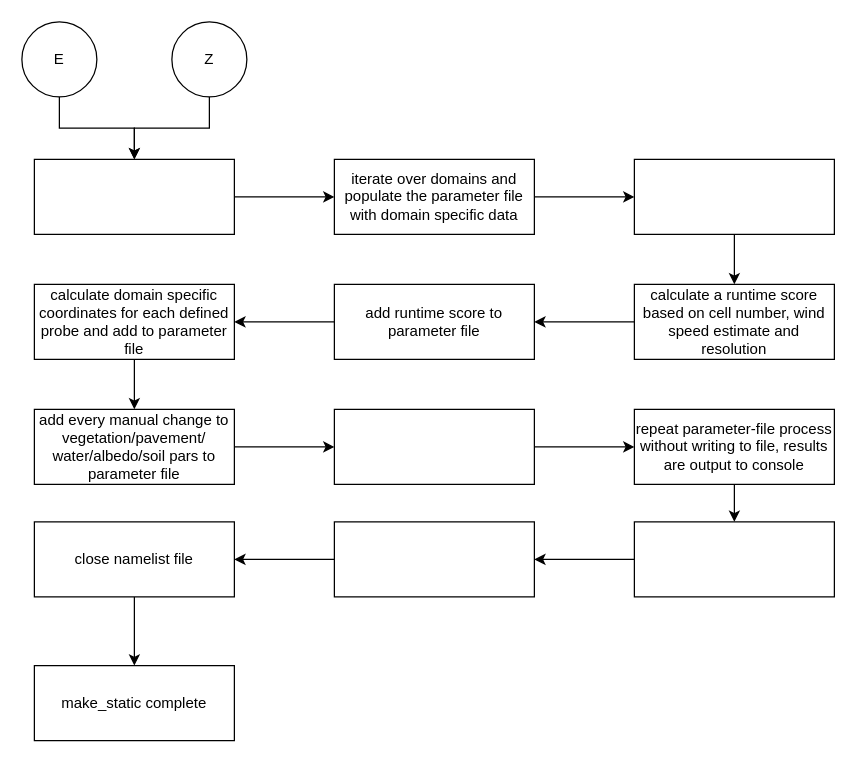
This 856x763 diagram has some shape labels left out. The shapes that lost their labels are listed below. From the top down, each one's centre as x and y in pixels, then its label:
point 133,196: create / open <casename>_parameters.txt file
point 733,196: calculate total number of cells
point 433,446: close parameter file
point 433,559: collect relevant information and assemble inifor namelist file
point 733,559: open / create inifor namelist file
